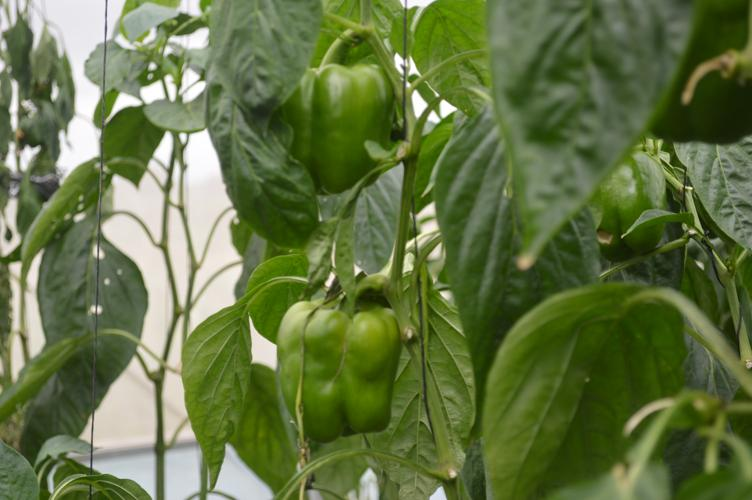BellPepper: (244, 42, 409, 208), (255, 283, 414, 444), (587, 144, 677, 278)
